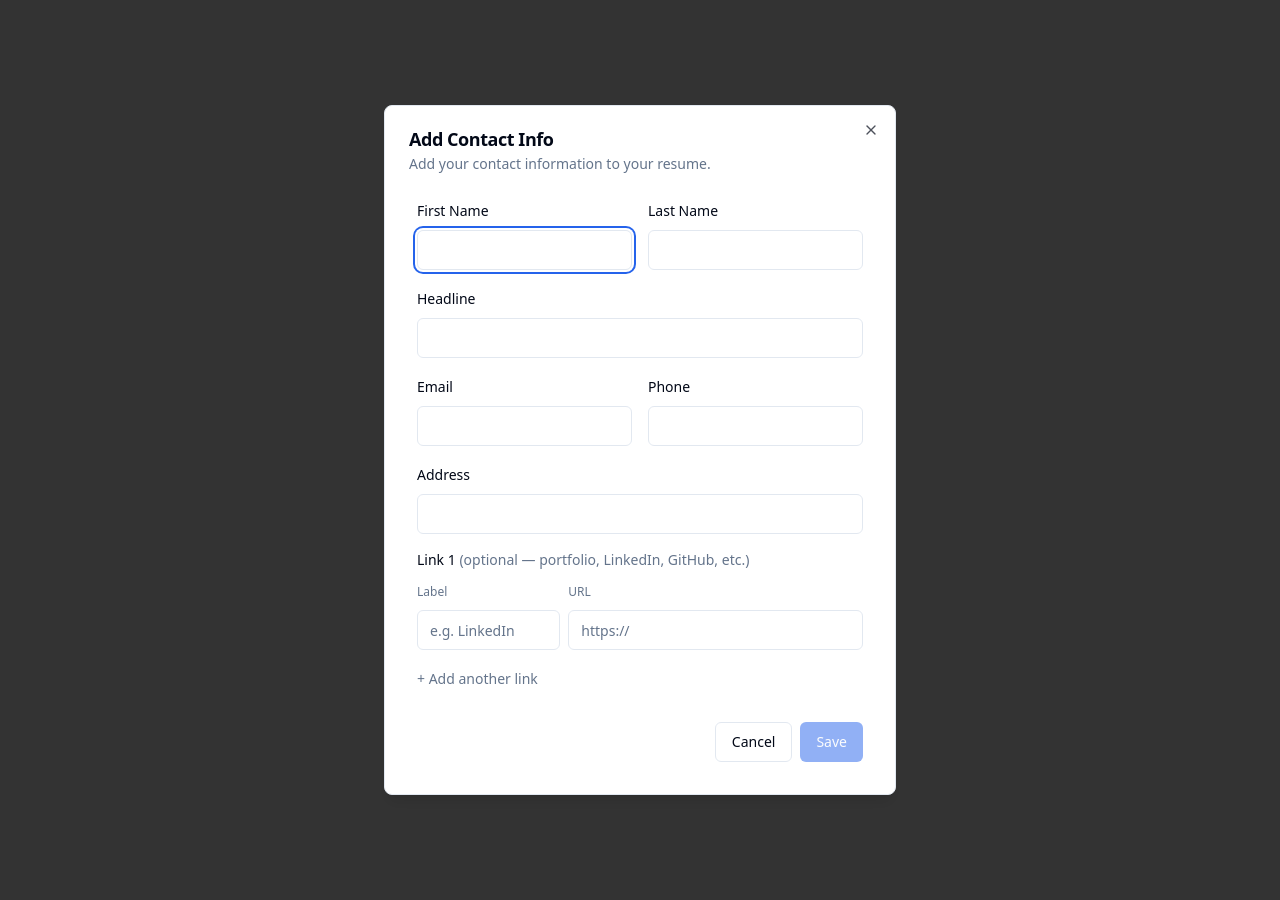
AddContactInfo Component › keeps Save disabled until the form is edited
Expected: the button "Save" is disabled, [800, 722, 863, 762]
Step 1. Type "G" into the field labelled "First Name" → (524,250), box [417, 230, 632, 270]
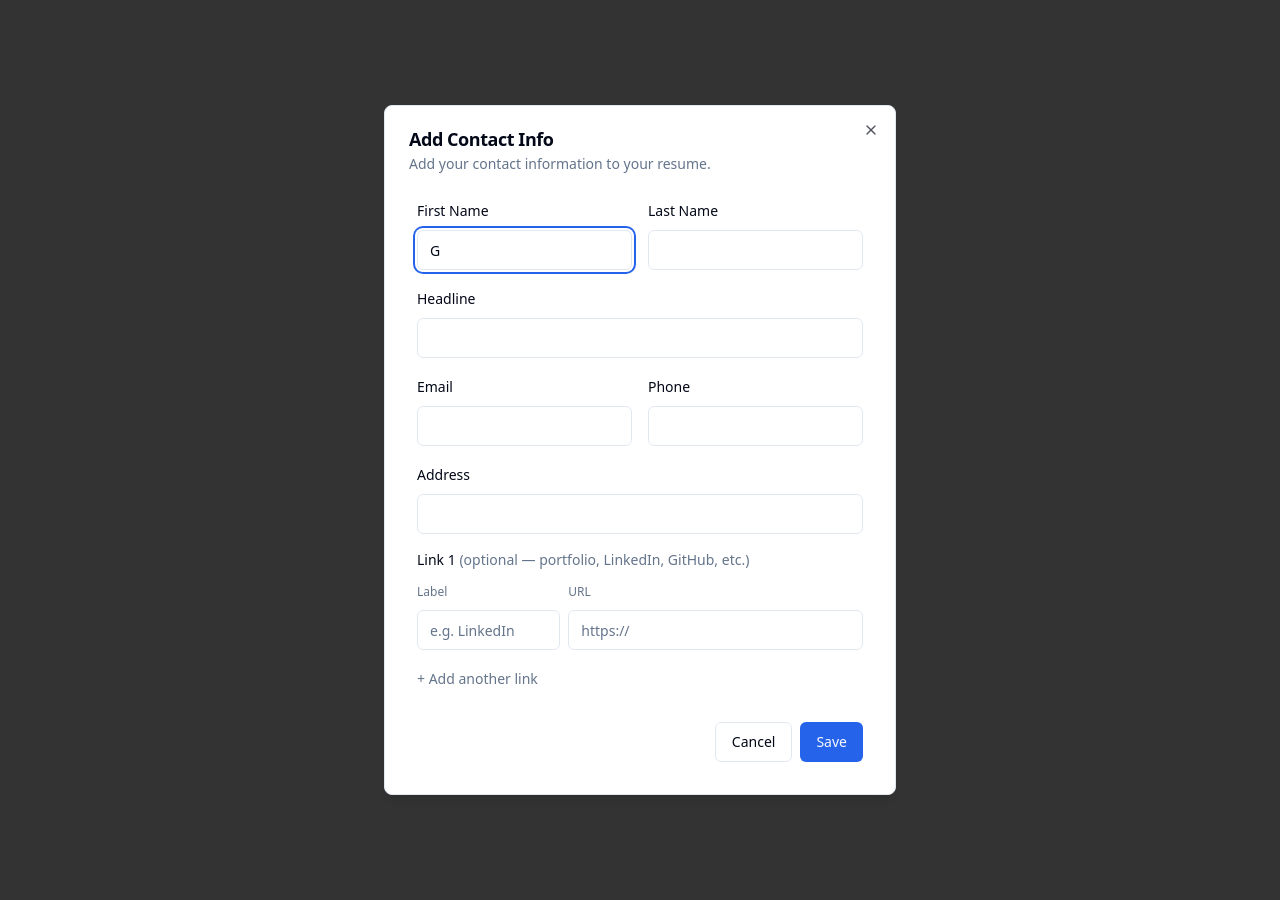
Now the button "Save" is enabled, box [800, 722, 863, 762]
